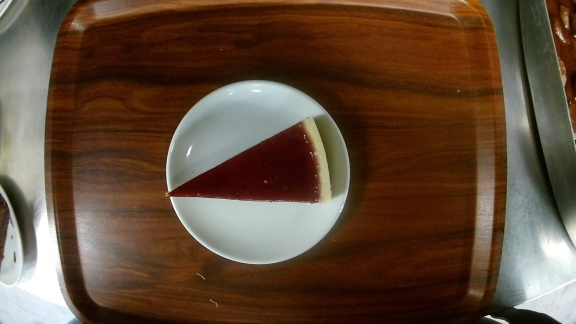frambuazlipasta: (164, 79, 351, 265)
